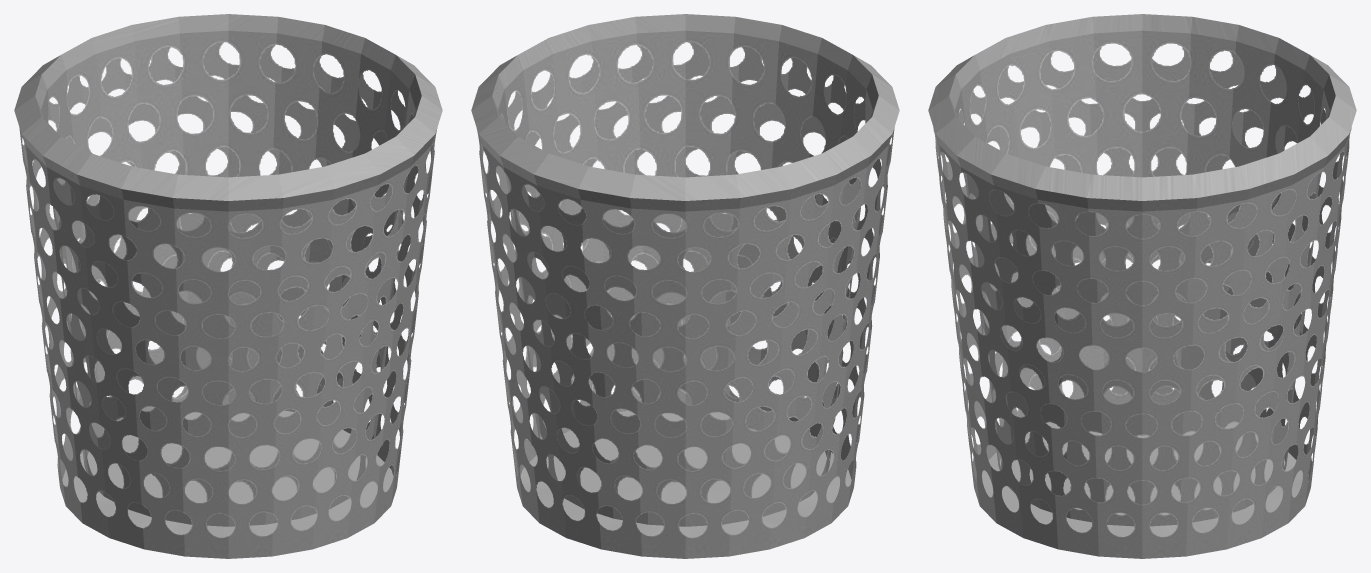
Rendered from Bin.fbx.
The picture shows the model from 3 angles, left to right: view 1: azimuth 30°, elevation 25°; view 2: azimuth 150°, elevation 25°; view 3: azimuth 270°, elevation 25°; orthographic projection.
Visible parts, largest first — view 1: Cylinder; view 2: Cylinder; view 3: Cylinder.
Boxes of the visible parts, x1,y1,x2,y2 form: Cylinder: (14,14,442,558); Cylinder: (471,14,899,558); Cylinder: (928,14,1356,558).
Bounding box in the file's own units: 203 × 203 × 205.
Materials: 1 (1 with a texture image).
